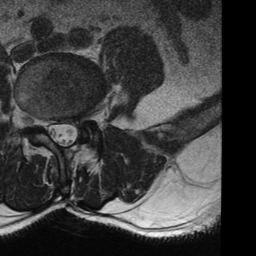CCS_normal: (57, 109, 68, 152)
LFS_stenosis: (78, 101, 88, 130)
LLS_normal: (68, 108, 78, 151)
RFS_stenosis: (36, 105, 47, 137)
RLS_normal: (47, 109, 57, 146)
